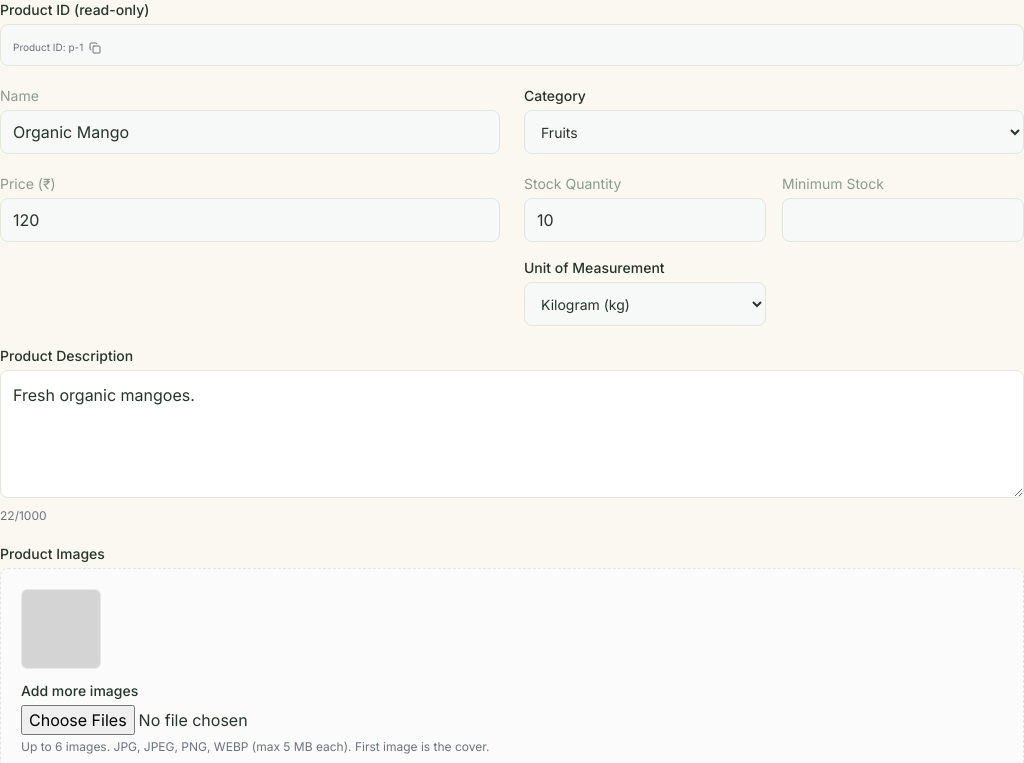
Test: ProductForm low stock threshold › rejects a non-finite legacy threshold and does not submit
Select "Fruits" in the dropdown below "Category" at (774, 132), box [524,110,1023,154]
(page scrolled)
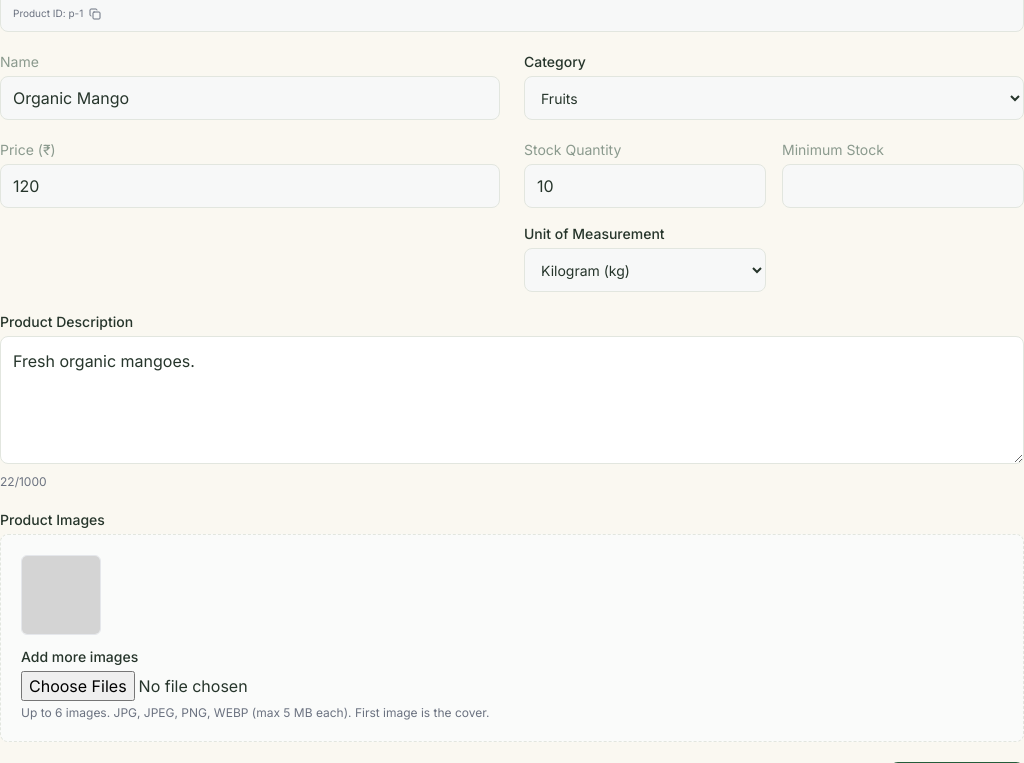
Submit the form
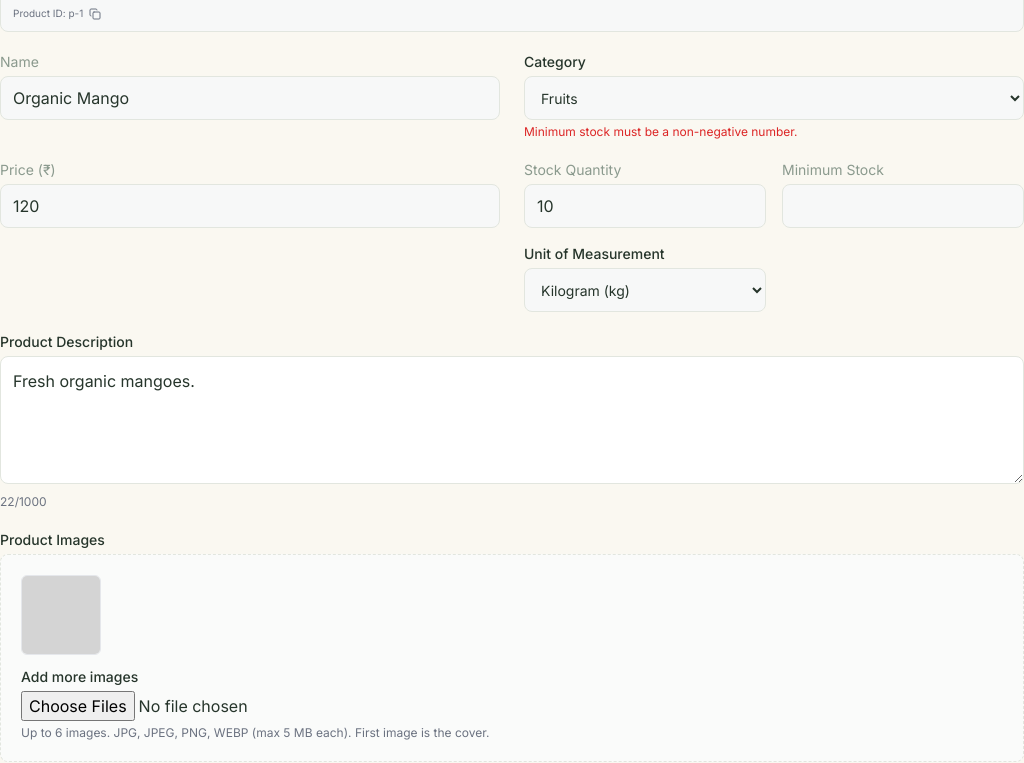
Result: the text "Minimum stock must be a non-negative number." is shown at [524,124,798,139]
